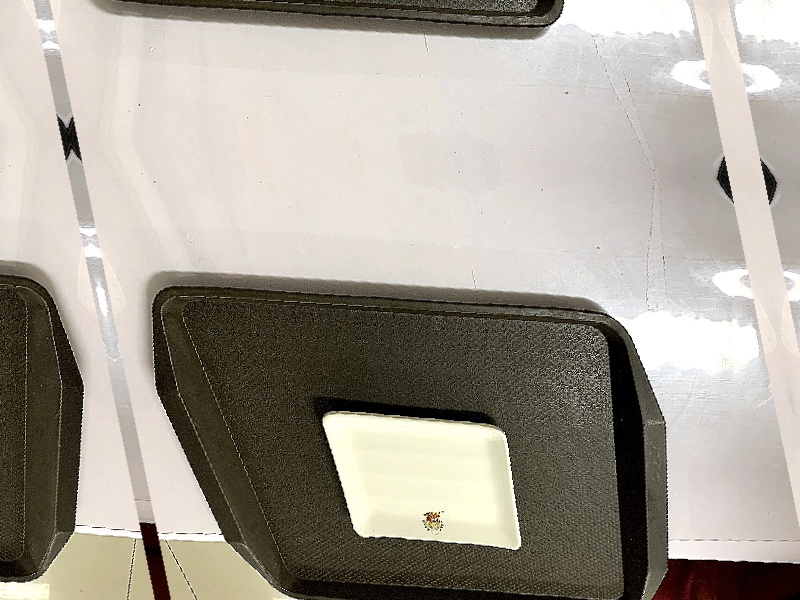dish4: (312, 402, 538, 556)
